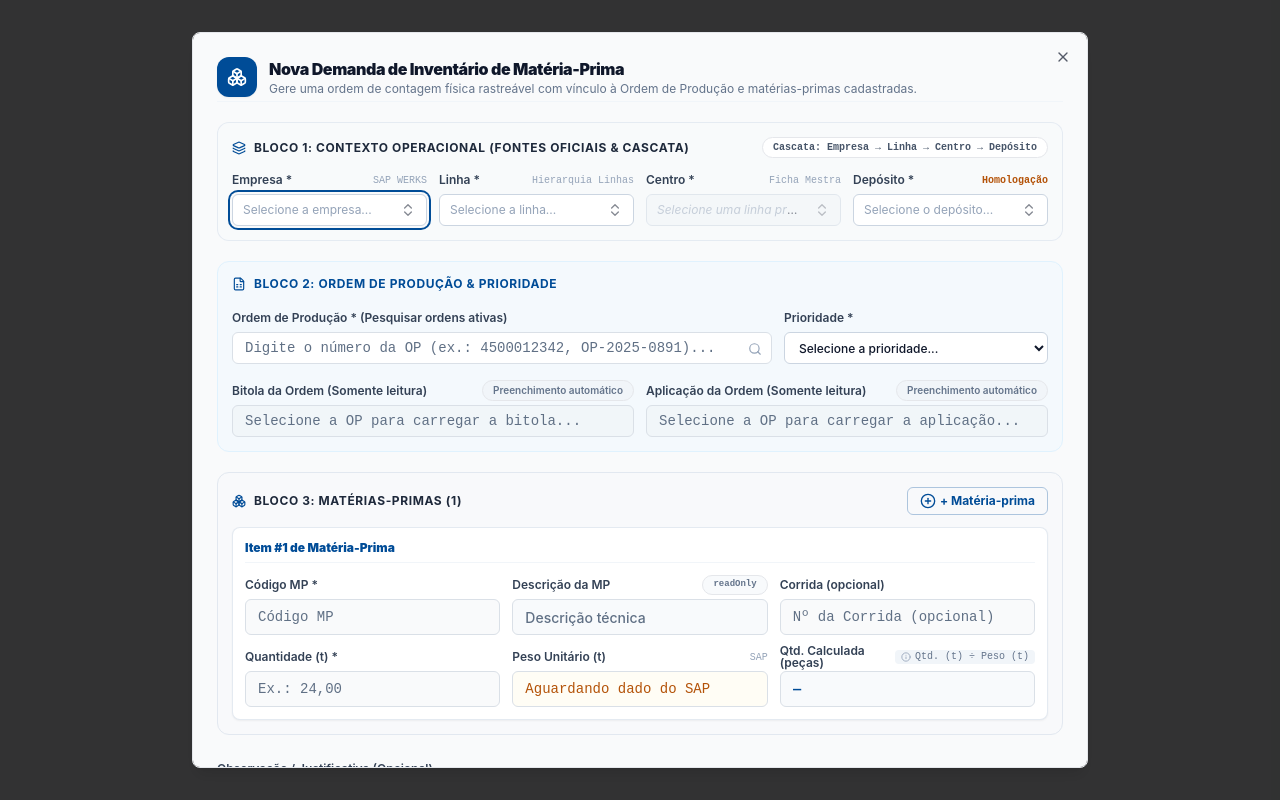
Test: NovaDemandaInventarioModal — Bloco 1 Contexto Operacional com Cascata e Fontes Oficiais › Teste 6: Deve disparar consulta RFC LGORT (T001L) para o WERKS e acionar lista temporária quando RFC indisponível
// Seleciona a Empresa 1001 para habilitar o depósito
Click the dropdown with test id "select-empresa-trigger" at (330, 210), box 232,194 -> 427,226
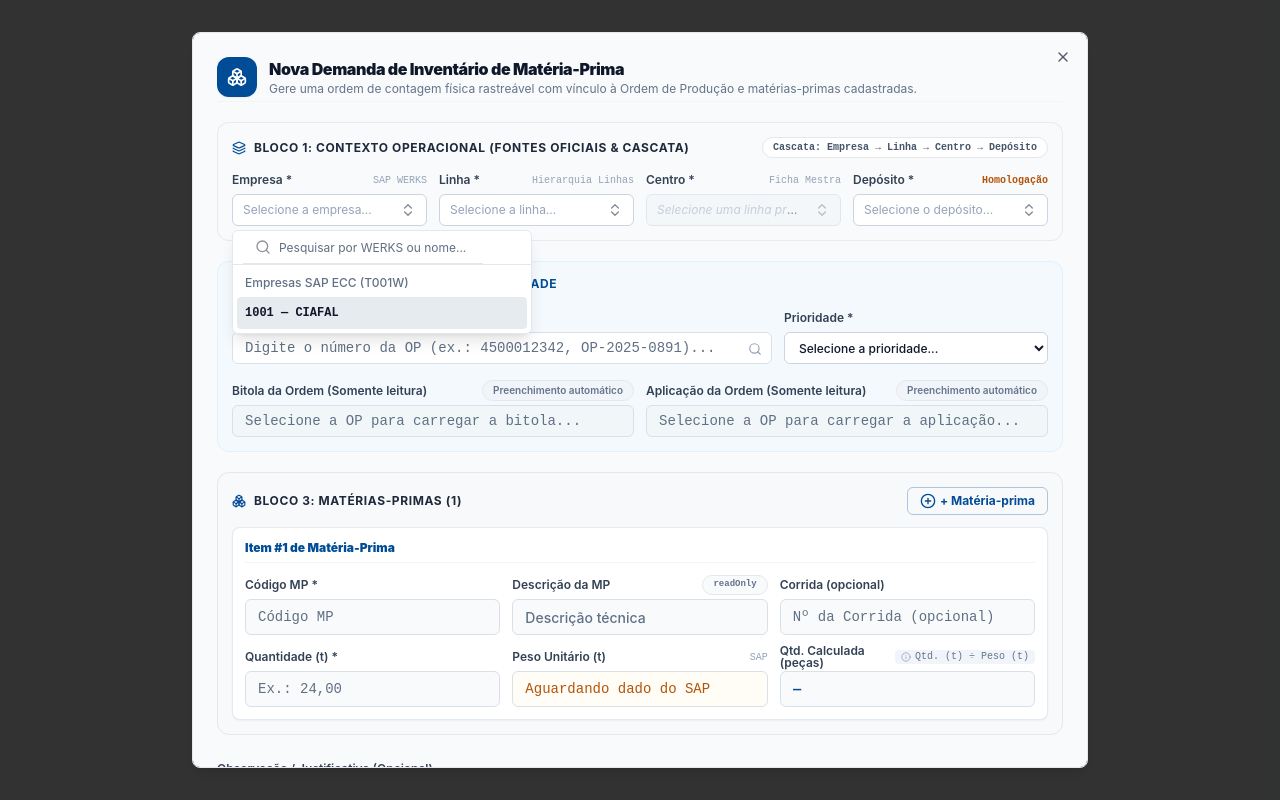
Now the option with test id "empresa-option-1001" is shown
Click the option with test id "empresa-option-1001" at (292, 313), box 237,297 -> 527,329
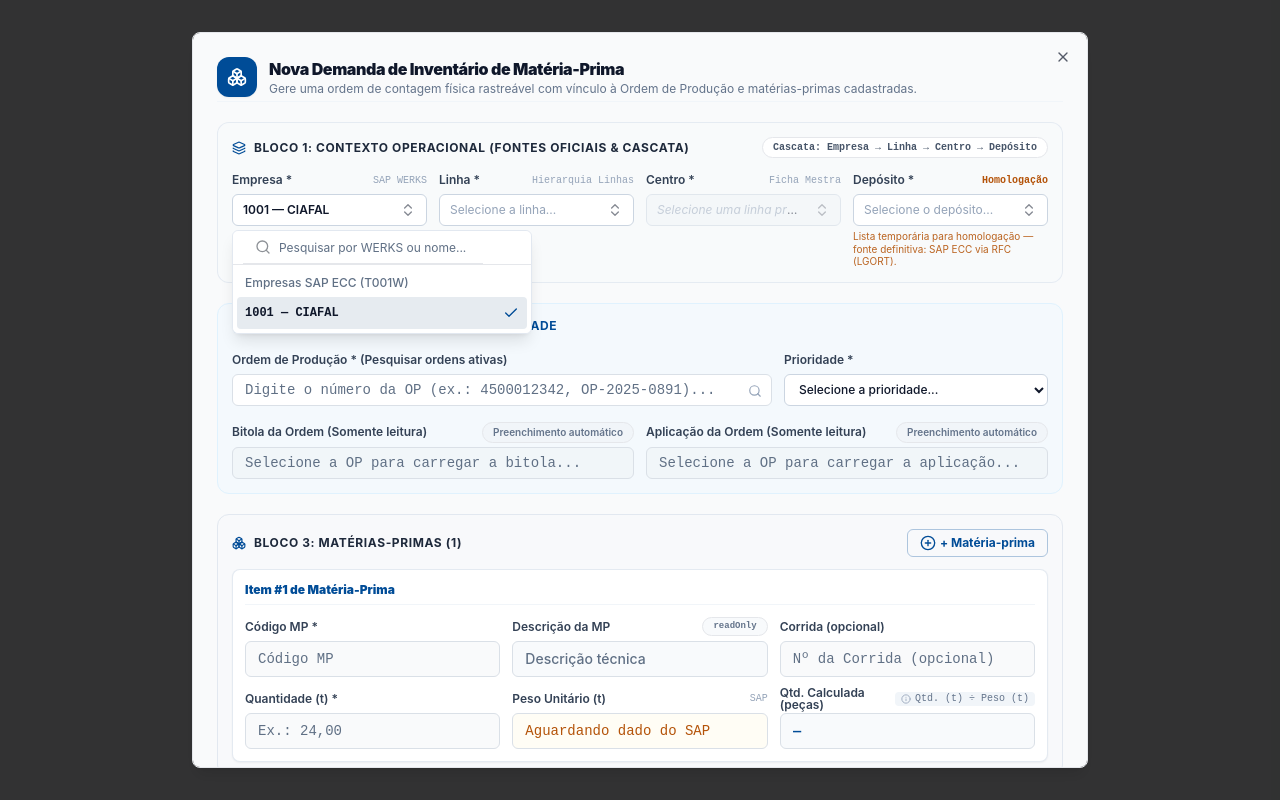
// Clica no depósito
Click the dropdown with test id "select-deposito-trigger" at (950, 210), box 853,194 -> 1048,226
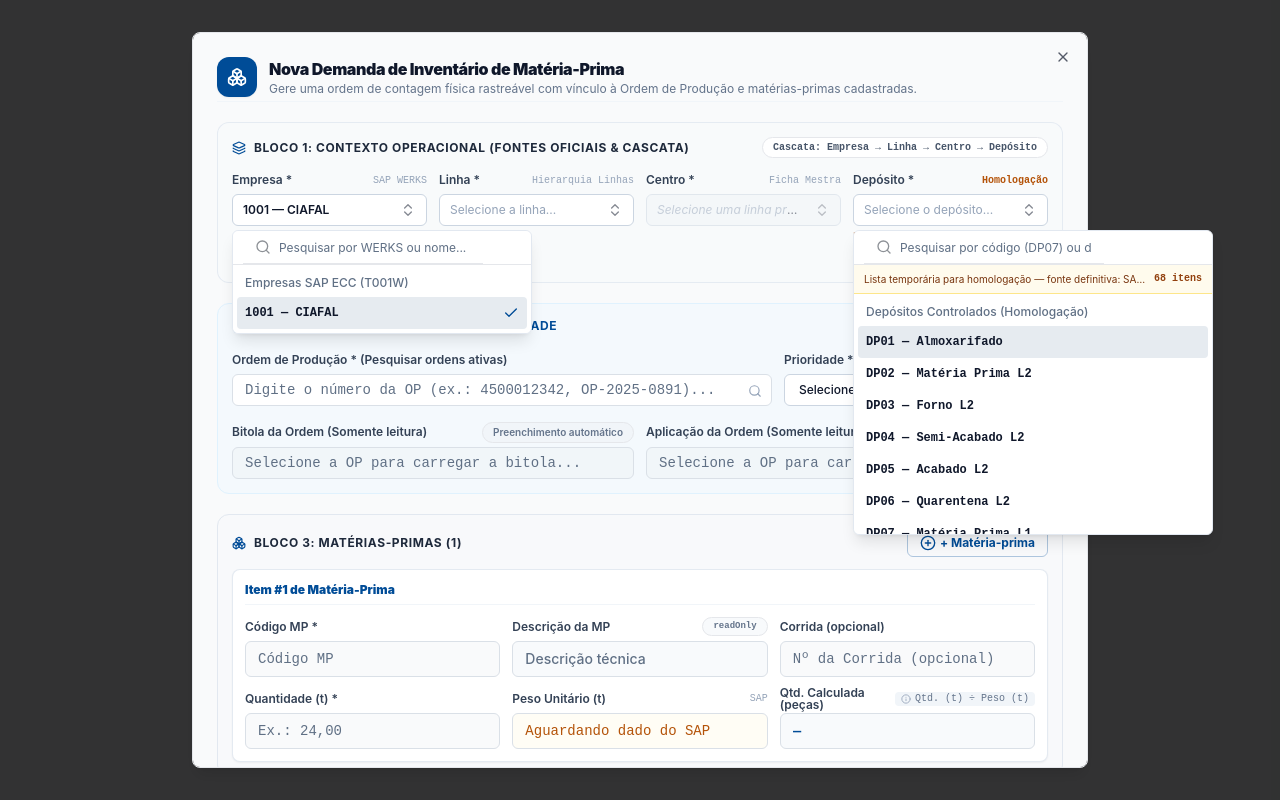
Now the element with test id "sap-deposito-provisional-hint" is shown, box 854,265 -> 1212,294
